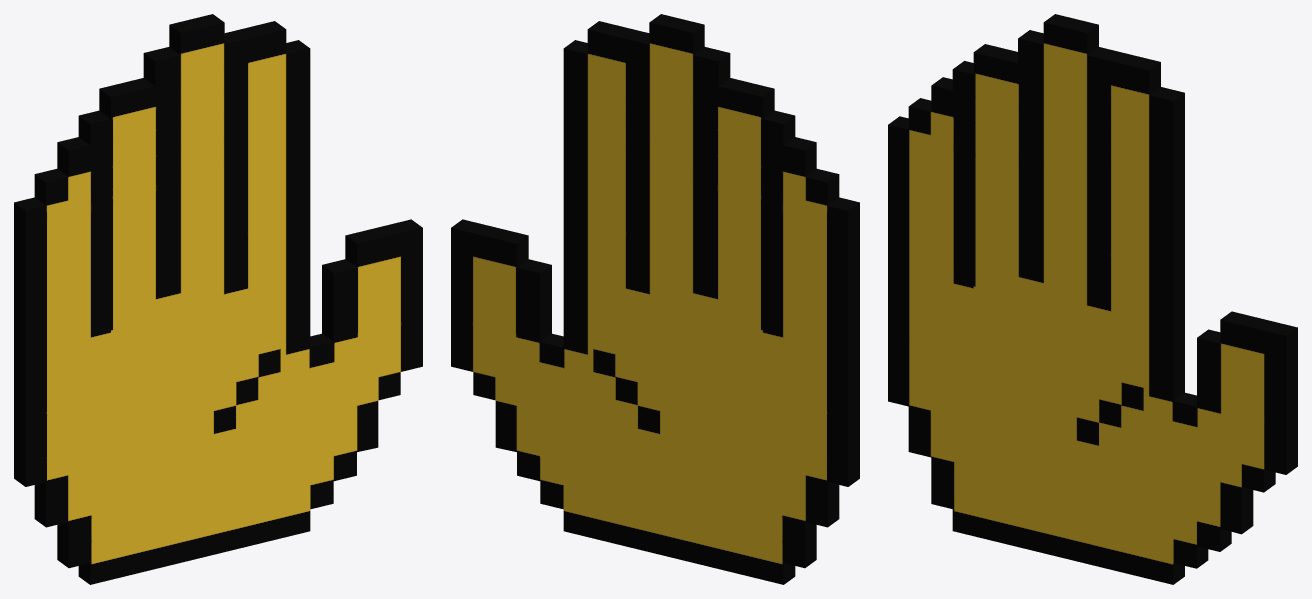
Rendered from Hand.obj.
3 renders of one model, left to right at view 1: azimuth 30°, elevation 25°; view 2: azimuth 150°, elevation 25°; view 3: azimuth 330°, elevation 25°, orthographic.
Parts seen in each view (by area): view 1: Hand_Yellow; view 2: Hand_Yellow; view 3: Hand_Yellow.
Boxes of the visible parts, x1,y1,x2,y2 form: Hand_Yellow: [14, 14, 422, 584]; Hand_Yellow: [451, 14, 859, 584]; Hand_Yellow: [888, 14, 1297, 584].
Size of the model in its own units: 13.2 by 16.81 by 0.666.
